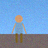person: (12, 15, 26, 43)
